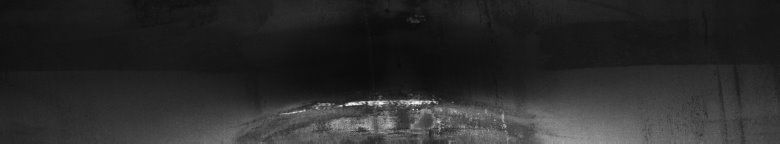ke: (232, 13, 548, 136)
